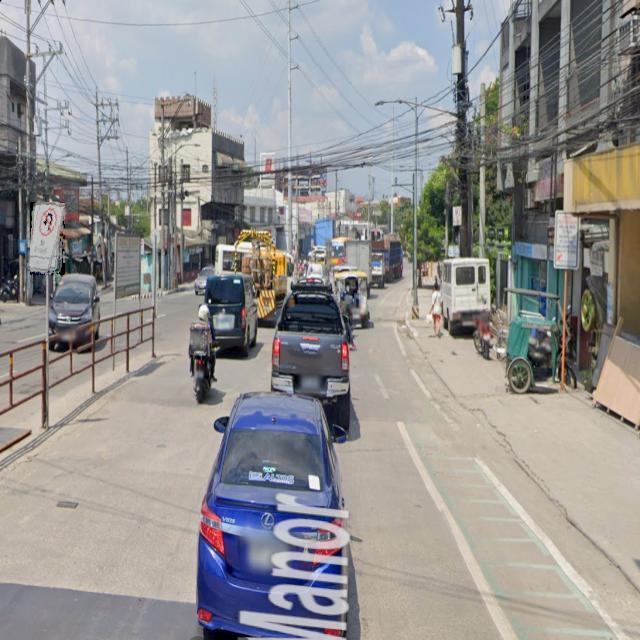no u turn: (30, 202, 65, 275)
